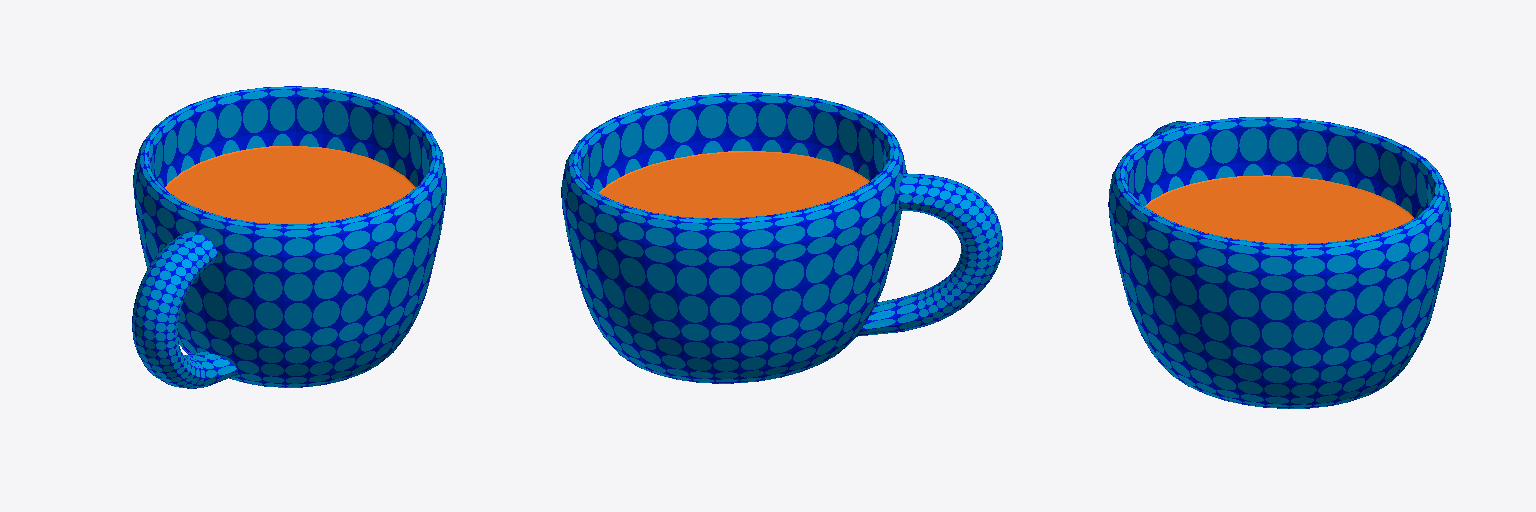
The picture shows the model from 3 angles: view 1: azimuth 30°, elevation 25°; view 2: azimuth 150°, elevation 25°; view 3: azimuth 270°, elevation 25°; orthographic projection.
Parts seen in each view (by area): view 1: Cylinder.020; view 2: Cylinder.020; view 3: Cylinder.020.
Boxes of the visible parts, x1=… form: Cylinder.020: x1=132, y1=86, x2=446, y2=388; Cylinder.020: x1=561, y1=92, x2=1002, y2=383; Cylinder.020: x1=1108, y1=117, x2=1451, y2=408.
Bounding box in the file's own units: 1.53 × 0.7629 × 1.29.
2 materials, 2 textured.